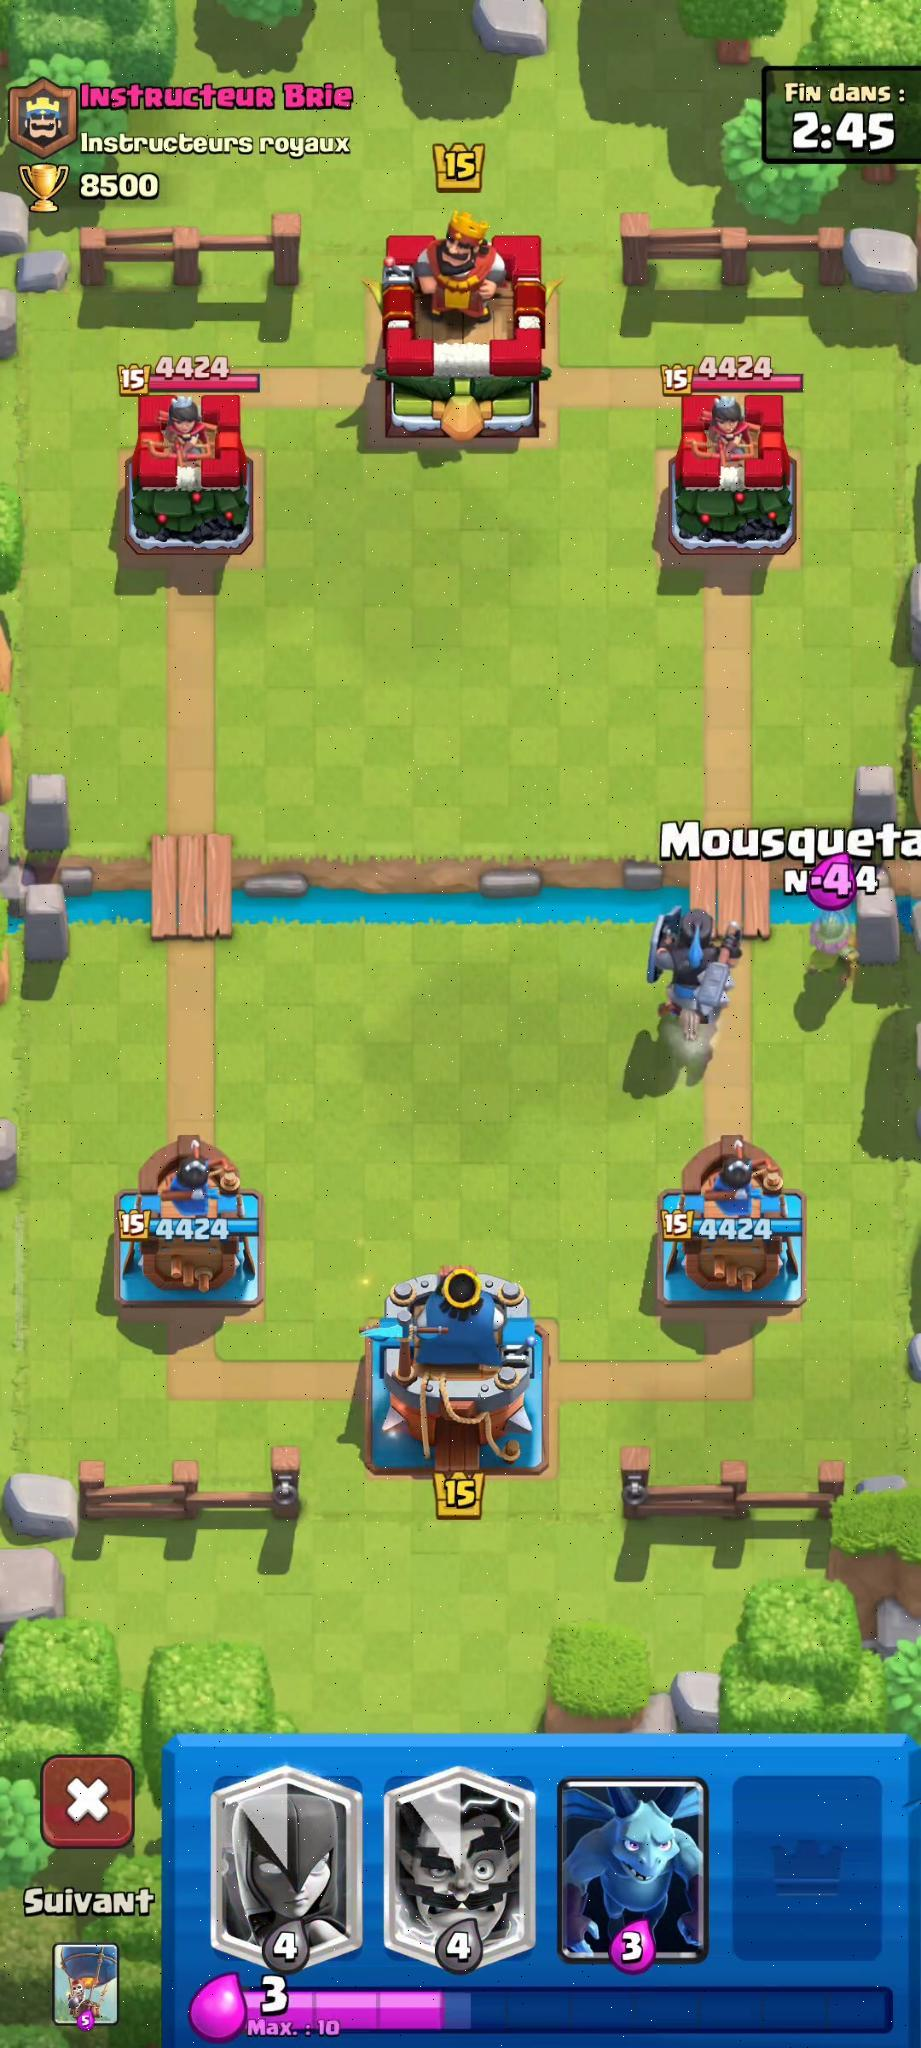player_dark_prince: (639, 897, 749, 1075)
